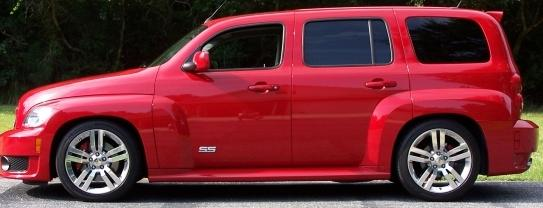headlight: (20, 106, 57, 132)
side_glass: (178, 15, 495, 72)
